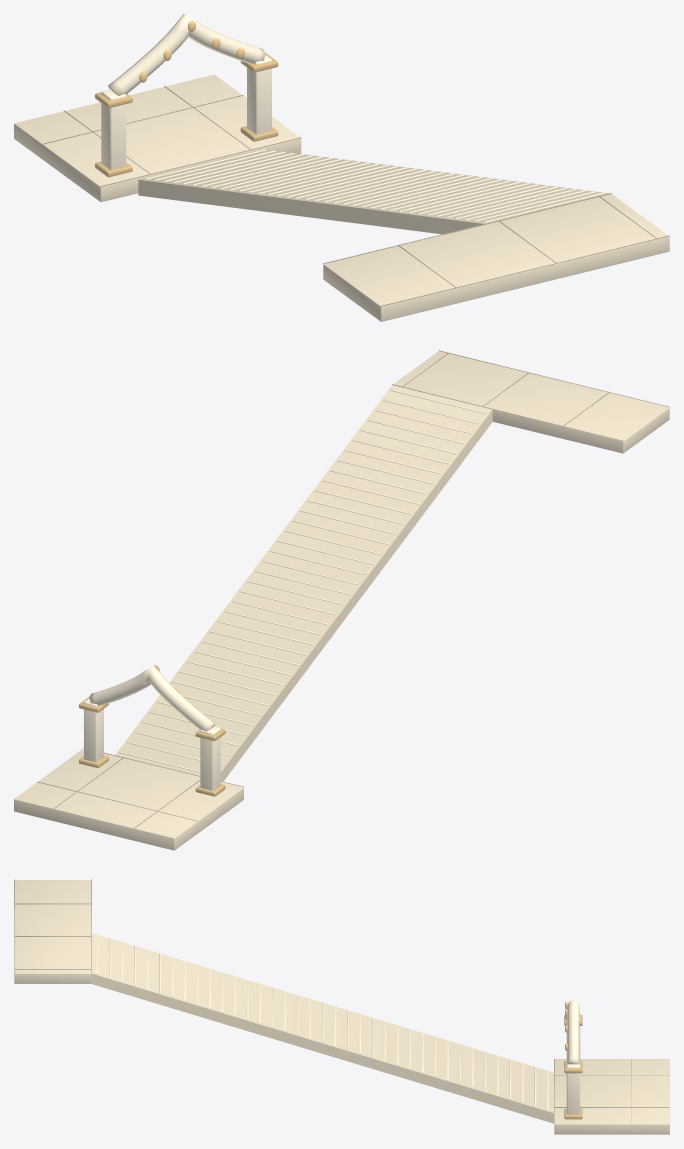
The model's file is castle_district_gate_purified.glb.
The picture shows the model from 3 angles, top to bottom: view 1: azimuth 30°, elevation 25°; view 2: azimuth 150°, elevation 25°; view 3: azimuth 270°, elevation 25°; orthographic projection. The views are drawn at different scales.
Visible parts, largest first — view 1: castle_district_gate_purified_surface; view 2: castle_district_gate_purified_surface; view 3: castle_district_gate_purified_surface.
Boxes of the visible parts, x1,y1,x2,y2 form: castle_district_gate_purified_surface: [14, 14, 669, 321]; castle_district_gate_purified_surface: [14, 350, 669, 850]; castle_district_gate_purified_surface: [14, 879, 669, 1134].
Bounding box in the file's own units: 13 × 8.62 × 34.01.
